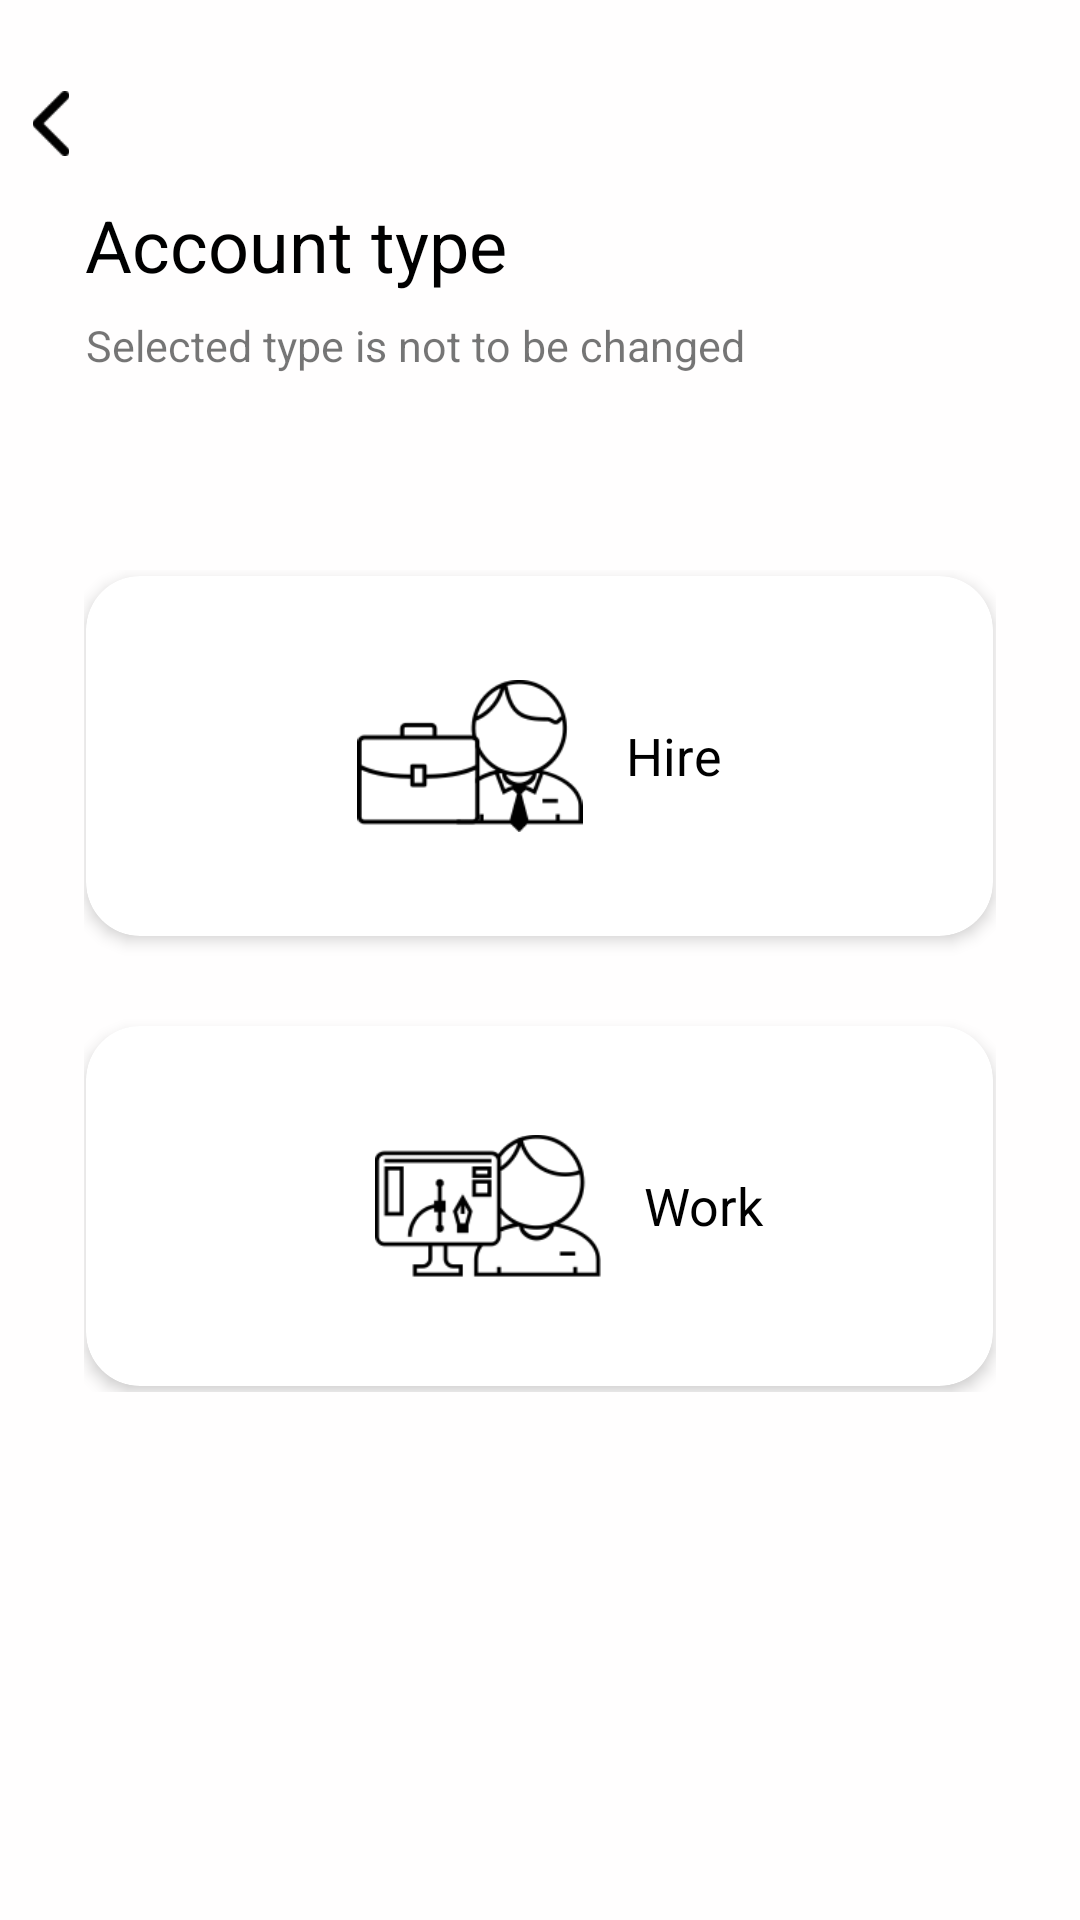

Where to tap for icons on this 1080w x 1920h app screen, as (x=x, y=y):
back: (x=51, y=123)
